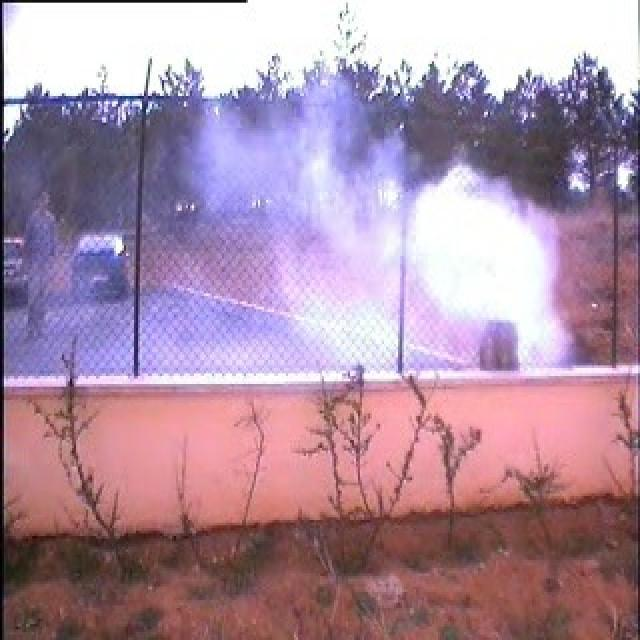Smoke: (202, 84, 572, 369)
